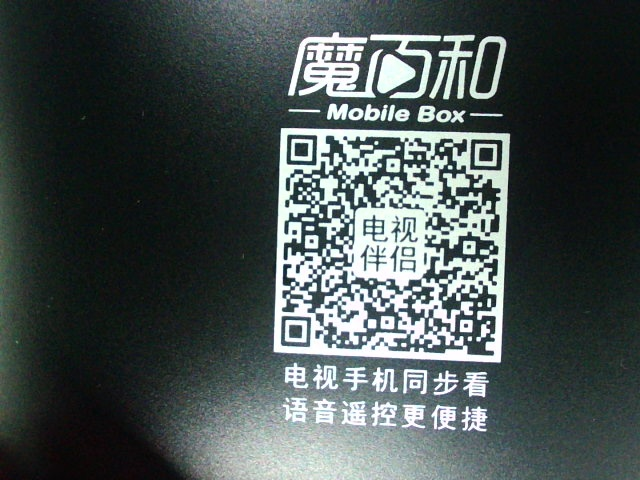AZ_MobileBox: (269, 25, 515, 439)
